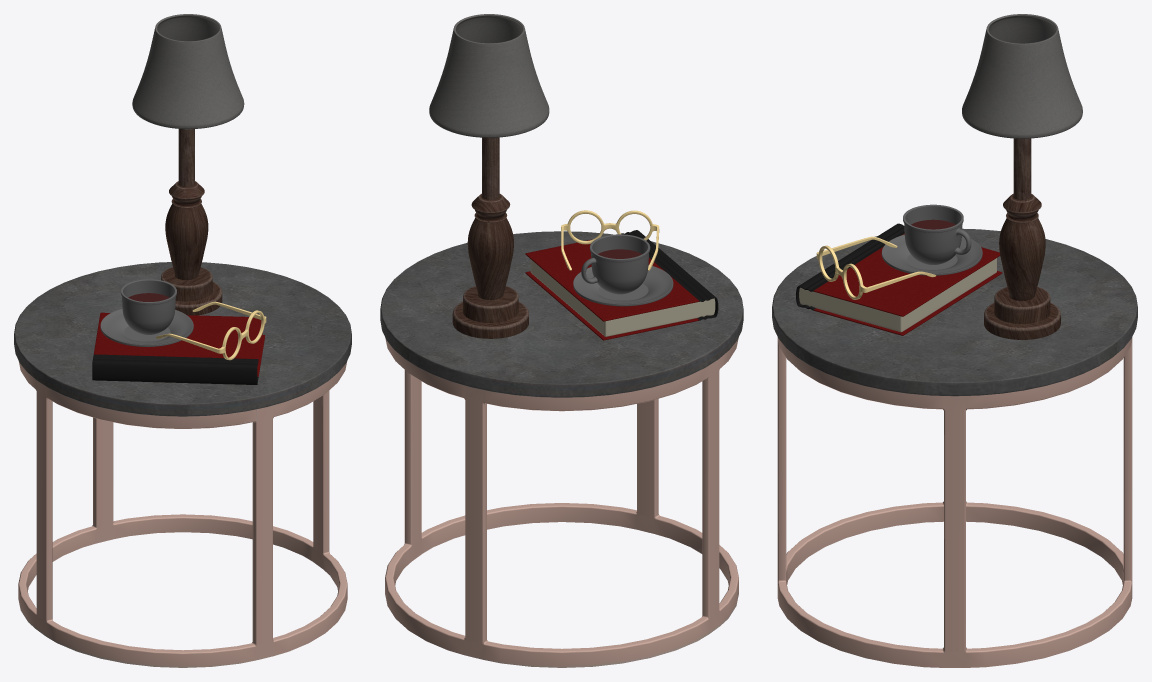
File: obj_time_for_coffee_006178.glb
3 renders of one model, left to right at view 1: azimuth 30°, elevation 25°; view 2: azimuth 150°, elevation 25°; view 3: azimuth 270°, elevation 25°, orthographic. The views are drawn at different scales.
Parts seen in each view (by area): view 1: obj_time_for_coffee_006178; view 2: obj_time_for_coffee_006178; view 3: obj_time_for_coffee_006178.
Part boxes in pixels (<box>): obj_time_for_coffee_006178: <box>14,14,351,667</box>; obj_time_for_coffee_006178: <box>380,14,743,667</box>; obj_time_for_coffee_006178: <box>772,14,1137,667</box>.
Size of the model in its own units: 0.3125 by 0.55 by 0.3125.
7 materials, 5 textured.
